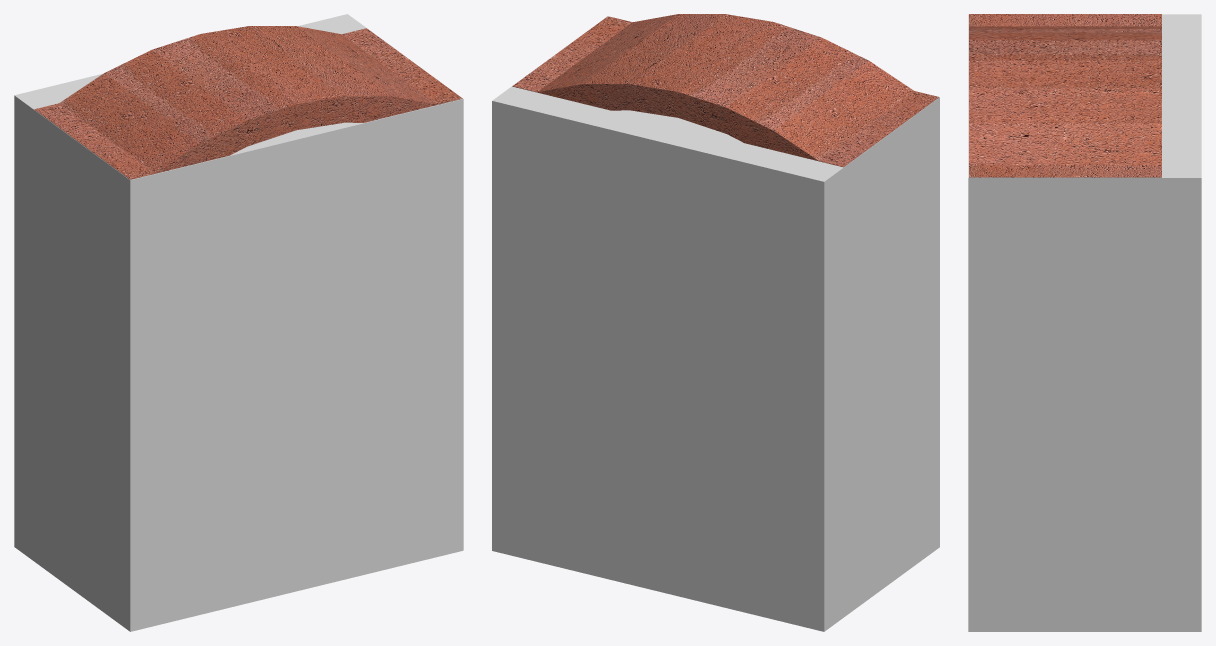
Rendered from BLCR52SU.glb.
3 renders of one model, left to right at view 1: azimuth 30°, elevation 25°; view 2: azimuth 150°, elevation 25°; view 3: azimuth 270°, elevation 25°, orthographic.
Parts seen in each view (by area): view 1: _bb.006, clay.003; view 2: _bb.006, clay.003; view 3: _bb.006, clay.003.
Boxes of the visible parts, x1,y1,x2,y2 form: _bb.006: [14, 14, 463, 631]; clay.003: [34, 26, 462, 179]; _bb.006: [492, 16, 939, 631]; clay.003: [512, 14, 938, 167]; _bb.006: [968, 14, 1201, 631]; clay.003: [969, 14, 1161, 177].
Bounding box in the file's own units: 0.4012 × 0.56 × 0.242.
1 material, 1 textured.
